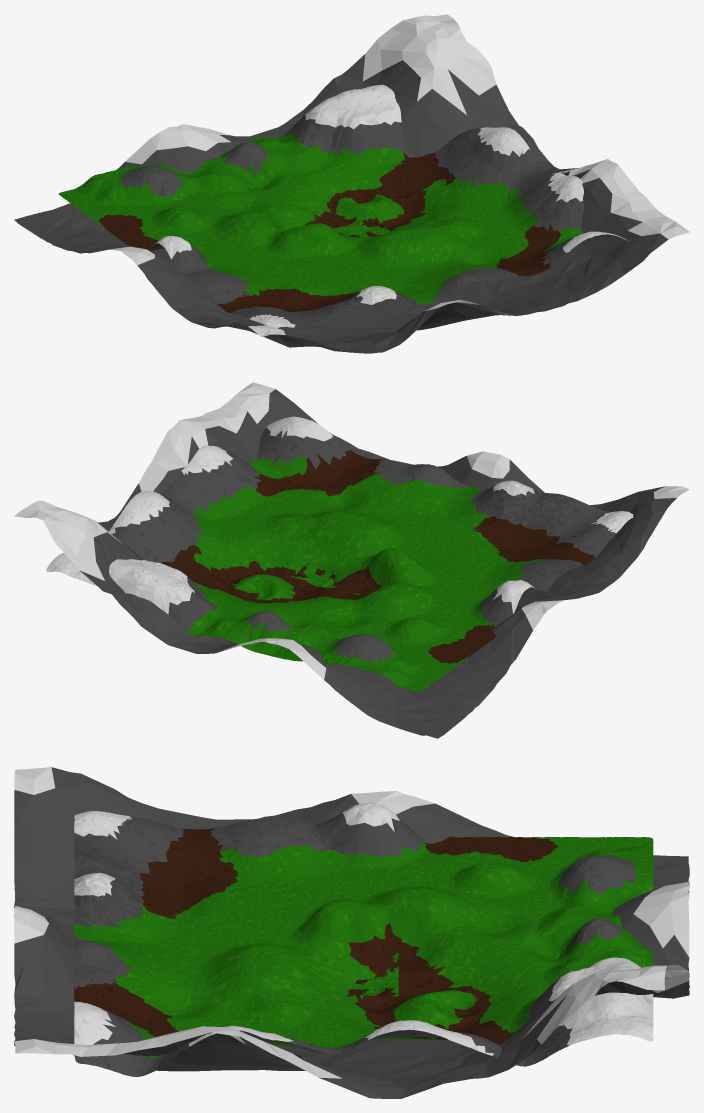
The model's file is EnvironmentTerrains.fbx.
The picture shows the model from 3 angles, top to bottom: view 1: azimuth 30°, elevation 25°; view 2: azimuth 150°, elevation 25°; view 3: azimuth 270°, elevation 25°; orthographic projection. The views are drawn at different scales.
Parts seen in each view (by area): view 1: Plane, Mountains, Terrain; view 2: Plane, Mountains, Terrain; view 3: Plane, Mountains, Terrain.
Part boxes in pixels (<box>): Plane: <box>59,84,627,328</box>; Mountains: <box>14,14,689,353</box>; Terrain: <box>333,216,390,237</box>; Plane: <box>46,416,633,691</box>; Mountains: <box>14,382,689,738</box>; Terrain: <box>291,563,359,594</box>; Plane: <box>74,802,653,1076</box>; Mountains: <box>14,767,689,1098</box>; Terrain: <box>344,953,398,998</box>.
Size of the model in its own units: 46685 by 13896 by 46699.
